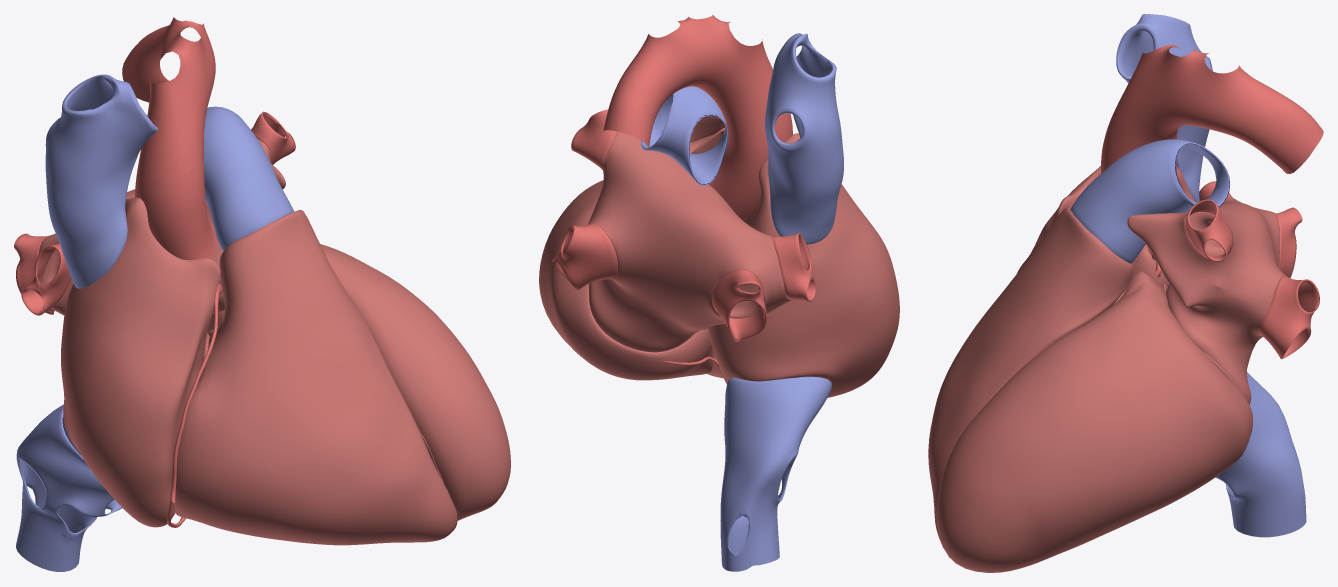
Rendered from heart-mobile.glb.
3 views of the same model, side by side, from view 1: azimuth 30°, elevation 25°; view 2: azimuth 150°, elevation 25°; view 3: azimuth 270°, elevation 25° (orthographic). The views are drawn at different scales.
Parts seen in each view (by area): view 1: VH_M_heart_right_ventricle, VH_M_right_cardiac_atrium, VH_M_heart_left_ventricle, VH_M_superior_vena_cava, VH_M_inferior_vena_cava_a, VH_M_aortic_arch, VH_M_pulmonary_trunk, VH_M_ascending_aorta, VH_M_pulmonary_vein_R_sup, VH_M_pulmonary_vein_L_sup, VH_M_left_cardiac_atrium, VH_M_right_coronary_artery (+1 smaller); view 2: VH_M_left_cardiac_atrium, VH_M_right_cardiac_atrium, VH_M_inferior_vena_cava_a, VH_M_aortic_arch, VH_M_superior_vena_cava, VH_M_heart_left_ventricle, VH_M_pulmonary_trunk, VH_M_ascending_aorta, VH_M_pulmonary_vein_L_inf, VH_M_pulmonary_vein_R_inf, VH_M_pulmonary_vein_R_sup, VH_M_pulmonary_vein_L_sup (+2 smaller); view 3: VH_M_heart_left_ventricle, VH_M_heart_right_ventricle, VH_M_left_cardiac_atrium, VH_M_aortic_arch, VH_M_pulmonary_trunk, VH_M_inferior_vena_cava_a, VH_M_superior_vena_cava, VH_M_pulmonary_vein_L_inf, VH_M_pulmonary_vein_L_sup, VH_M_pulmonary_vein_R_inf, VH_M_right_cardiac_atrium, VH_M_ascending_aorta (+1 smaller).
Boxes of the visible parts, x1,y1,x2,y2 form: VH_M_heart_right_ventricle: (171,210,457,545); VH_M_right_cardiac_atrium: (61,197,220,527); VH_M_heart_left_ventricle: (208,244,510,520); VH_M_superior_vena_cava: (45,74,158,288); VH_M_inferior_vena_cava_a: (16,404,122,571); VH_M_aortic_arch: (122,17,215,180); VH_M_pulmonary_trunk: (204,106,294,251); VH_M_ascending_aorta: (135,160,217,259); VH_M_pulmonary_vein_R_sup: (21,243,71,315); VH_M_pulmonary_vein_L_sup: (251,111,295,164); VH_M_left_cardiac_atrium: (38,138,285,315); VH_M_right_coronary_artery: (167,283,222,527); VH_M_left_cardiac_atrium: (588,132,791,352); VH_M_right_cardiac_atrium: (708,133,899,397); VH_M_inferior_vena_cava_a: (720,376,831,571); VH_M_aortic_arch: (603,15,788,148); VH_M_superior_vena_cava: (764,33,843,244); VH_M_heart_left_ventricle: (539,180,713,380); VH_M_pulmonary_trunk: (640,86,728,185); VH_M_ascending_aorta: (709,113,792,217); VH_M_pulmonary_vein_L_inf: (552,223,617,290); VH_M_pulmonary_vein_R_inf: (712,269,767,341); VH_M_pulmonary_vein_R_sup: (772,233,815,301); VH_M_pulmonary_vein_L_sup: (571,109,617,169); VH_M_heart_left_ventricle: (936,271,1252,572); VH_M_heart_right_ventricle: (928,206,1133,549); VH_M_left_cardiac_atrium: (1127,197,1285,404); VH_M_aortic_arch: (1107,44,1323,173); VH_M_pulmonary_trunk: (1070,139,1229,263); VH_M_inferior_vena_cava_a: (1215,372,1306,537); VH_M_superior_vena_cava: (1116,14,1212,202); VH_M_pulmonary_vein_L_inf: (1258,275,1319,359); VH_M_pulmonary_vein_L_sup: (1185,199,1233,261); VH_M_pulmonary_vein_R_inf: (1275,207,1302,278); VH_M_right_cardiac_atrium: (1017,166,1195,273); VH_M_ascending_aorta: (1101,128,1176,173).
Size of the model in its own units: 0.1243 by 0.1695 by 0.1157.
